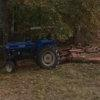Tractor: (6, 25, 69, 76)
